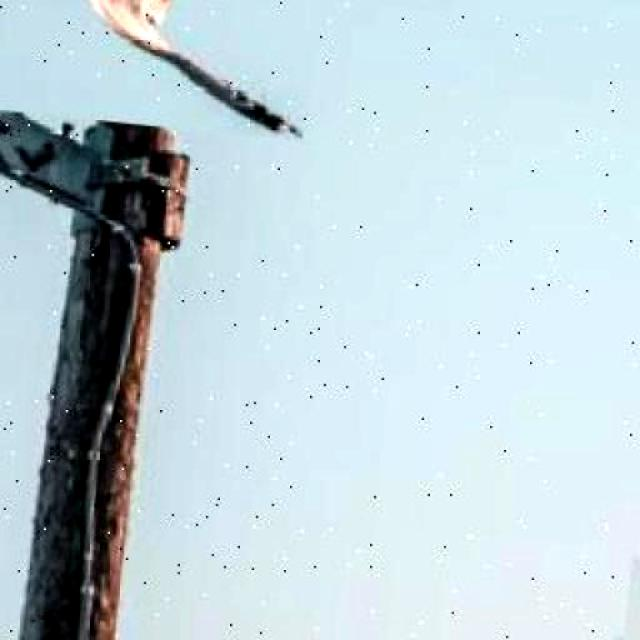airplane: (0, 0, 328, 141)
